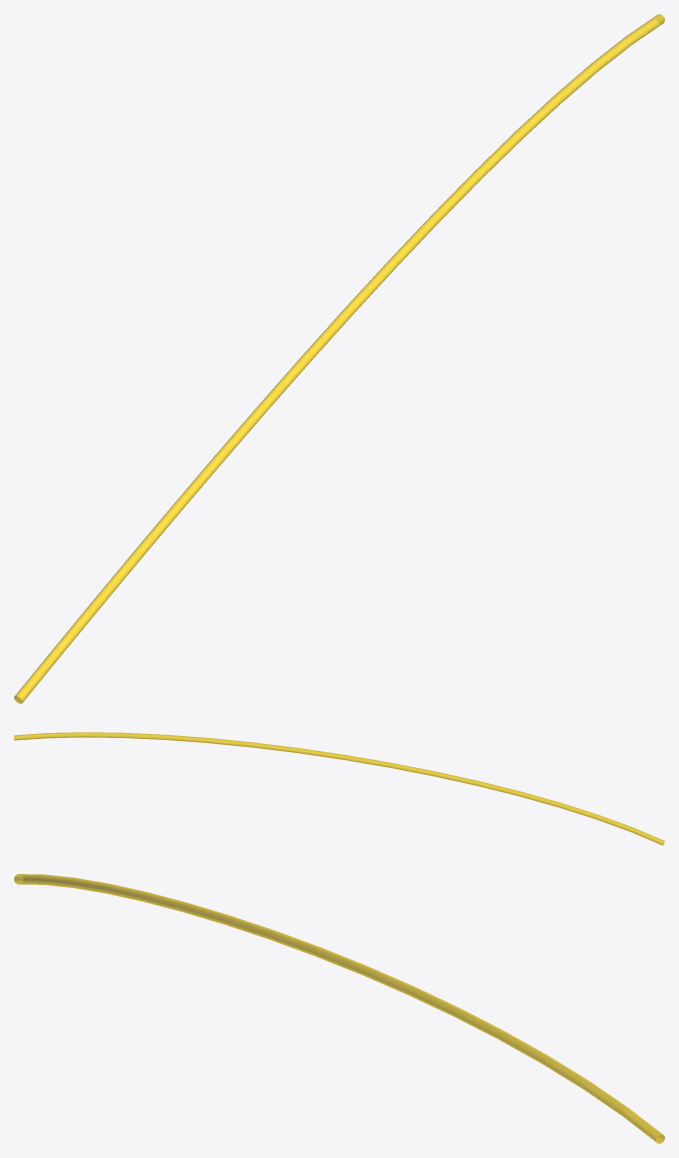
Rendered from Event_100608114_track_7.fbx.
The picture shows the model from 3 angles, top to bottom: view 1: azimuth 30°, elevation 25°; view 2: azimuth 150°, elevation 25°; view 3: azimuth 270°, elevation 25°; orthographic projection. The views are drawn at different scales.
Parts seen in each view (by area): view 1: Model; view 2: Model; view 3: Model.
Part boxes in pixels (left/top/right/bottom): Model: left=14, top=14, right=664, bottom=703; Model: left=14, top=732, right=664, bottom=845; Model: left=14, top=874, right=664, bottom=1143.
Bounding box in the file's own units: 4.25 × 0.933 × 2.48.
